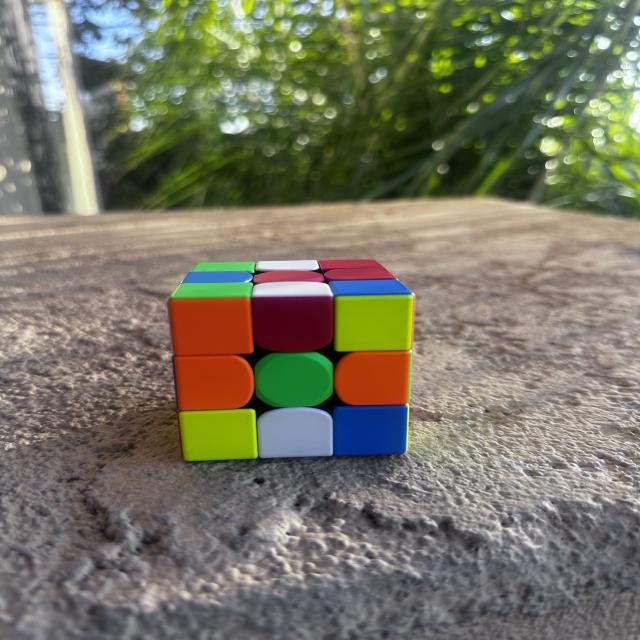sticker: (168, 284, 258, 357), (250, 280, 336, 354), (331, 284, 415, 354), (173, 355, 257, 411), (254, 352, 336, 408), (333, 350, 412, 407), (177, 408, 259, 462), (257, 407, 335, 459), (333, 404, 409, 457), (328, 279, 410, 296), (251, 269, 326, 284), (322, 267, 396, 282), (180, 270, 254, 284), (315, 259, 388, 273), (253, 260, 323, 274), (188, 262, 257, 274)
